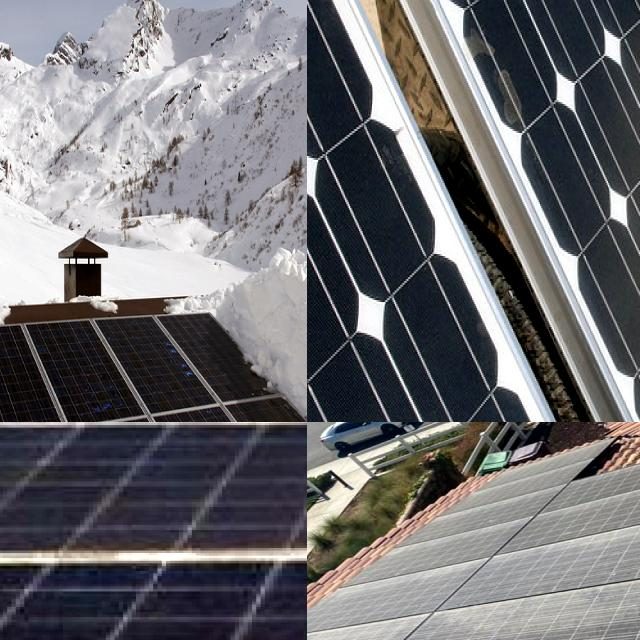crack: (307, 0, 640, 422), (381, 0, 640, 422)
dust: (0, 424, 307, 555), (0, 565, 305, 640), (0, 422, 307, 463), (0, 422, 307, 449), (486, 533, 640, 585), (398, 518, 476, 604), (422, 612, 640, 640), (307, 599, 422, 640), (565, 467, 640, 517), (486, 477, 552, 508)
panel: (226, 290, 292, 410), (0, 275, 40, 340), (164, 300, 226, 335), (0, 340, 14, 422), (0, 317, 35, 342)
